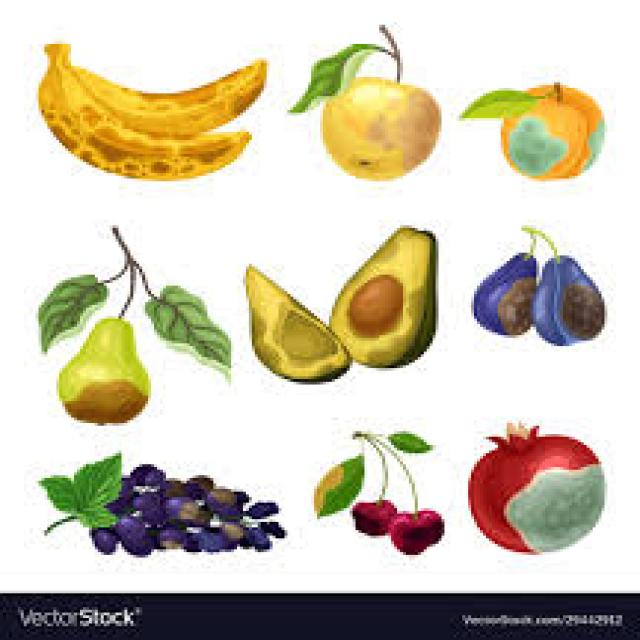biodegradable: (35, 41, 249, 179), (56, 41, 264, 132), (465, 418, 602, 552), (86, 461, 281, 555), (326, 223, 435, 366), (243, 264, 350, 379), (320, 77, 439, 178), (498, 77, 601, 178), (56, 316, 145, 423), (142, 283, 231, 371), (531, 253, 605, 343), (39, 450, 119, 533), (288, 39, 374, 113), (471, 247, 533, 335), (36, 272, 104, 349), (344, 275, 400, 338), (311, 454, 362, 517), (457, 88, 537, 118), (385, 508, 430, 552), (350, 497, 394, 533), (388, 431, 433, 453), (415, 508, 441, 541)
